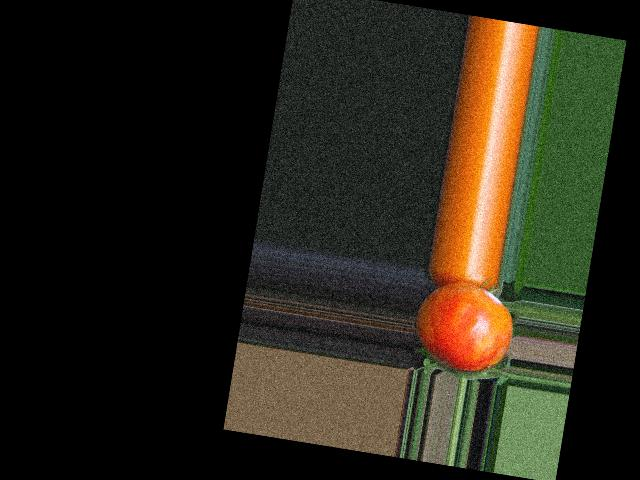tomato: (409, 276, 518, 376)
